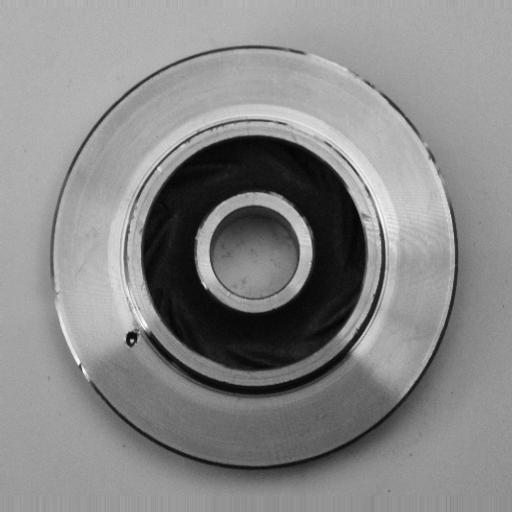pit: (118, 323, 145, 352)
scratch: (45, 281, 96, 385), (302, 35, 378, 90), (114, 255, 151, 333), (419, 130, 455, 203), (273, 112, 336, 153)
unpolished_casting: (49, 44, 460, 470)
